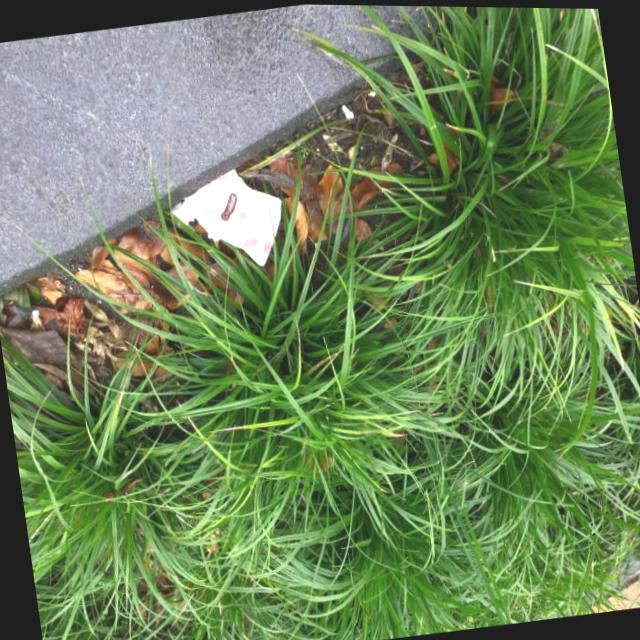Paper: (164, 159, 292, 278)
